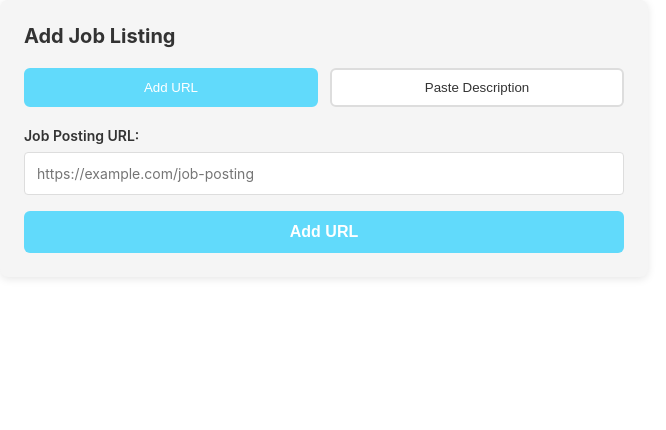
Test: JobInputArea › renders mode buttons and switches modes
The width and height of the screenshot is (666, 430).
Expected: the button with test id "mode-add-url" is shown, [24, 68, 318, 107]
# switch to description mode
What coordinates should you click on to do the following:
click the button with test id "mode-paste-description"
I would click on:
 (477, 88)
Its box is [330, 68, 624, 107].
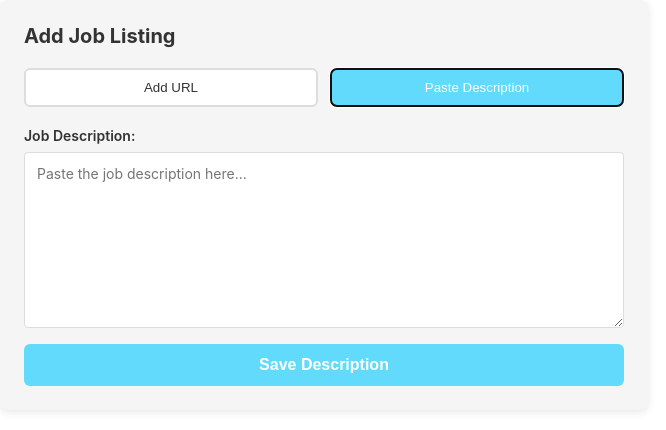
Result: the text box labelled "Job Description:" is shown at [24, 152, 624, 328]
